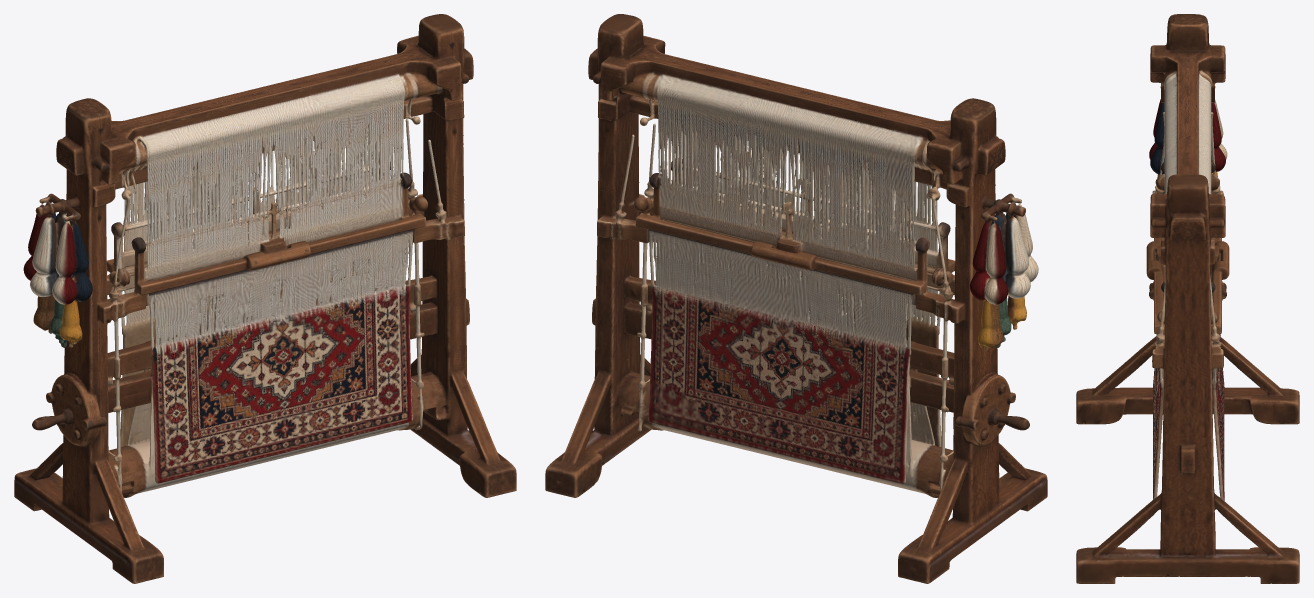
Rendered from hali_dokuma_tez.glb.
The picture shows the model from 3 angles, left to right: view 1: azimuth 30°, elevation 25°; view 2: azimuth 150°, elevation 25°; view 3: azimuth 270°, elevation 25°; orthographic projection. The views are drawn at different scales.
Size of the model in its own units: 1.86 by 1.76 by 0.8947.
1 material, 1 textured.
